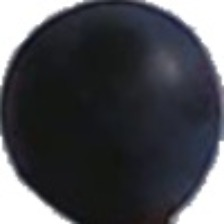grapes: (38, 42, 177, 218)
